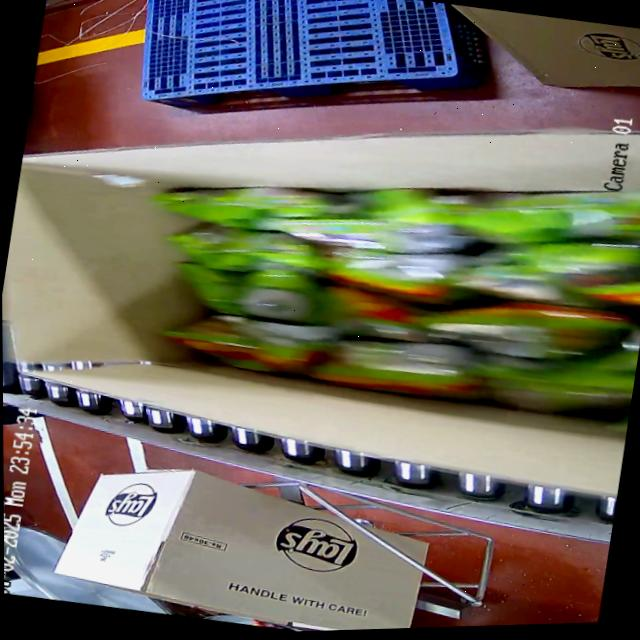YOGURT_HERB: (121, 116, 640, 453)
